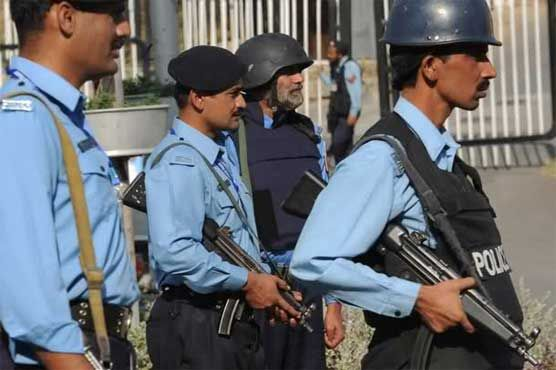gun: (283, 160, 524, 343), (116, 172, 325, 334)
uniform: (337, 93, 529, 363), (7, 50, 134, 360), (142, 107, 264, 361), (319, 42, 361, 164)
